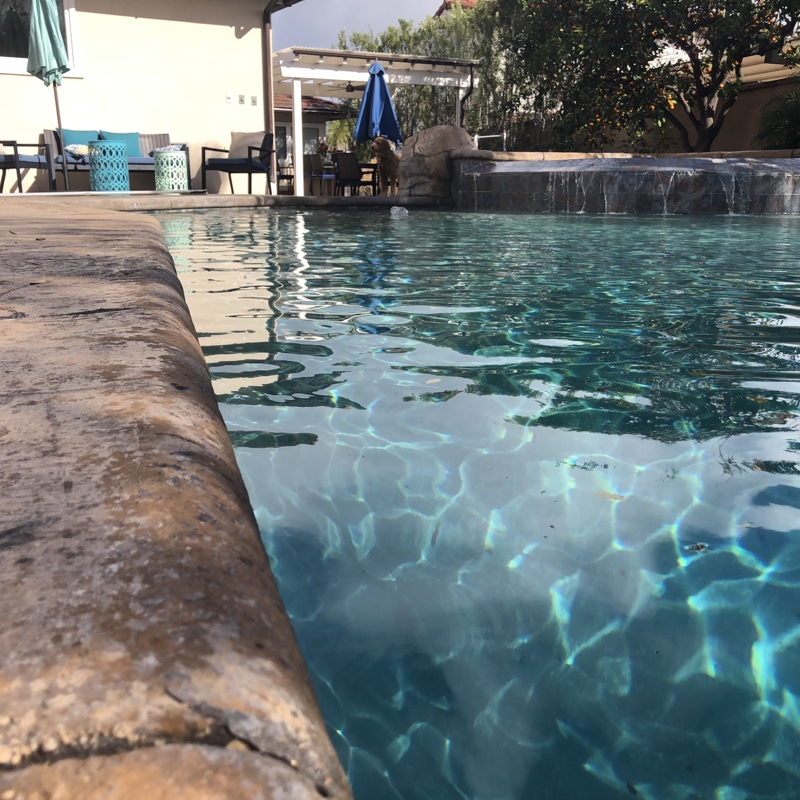Plastic Bottle: (389, 205, 408, 221)
